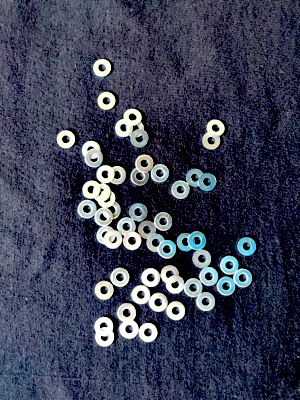circle: (238, 234, 259, 257), (138, 322, 159, 344), (171, 179, 192, 200), (219, 255, 240, 276), (233, 268, 254, 289), (160, 265, 181, 286), (186, 167, 206, 189), (193, 248, 213, 270), (57, 129, 78, 149), (166, 301, 186, 322), (129, 203, 149, 224), (131, 284, 151, 305), (116, 303, 137, 323), (94, 317, 114, 338), (111, 268, 131, 289), (81, 180, 102, 200), (130, 129, 152, 148), (82, 140, 102, 160), (188, 231, 208, 251), (217, 276, 237, 296), (200, 267, 220, 287), (196, 292, 216, 312), (141, 268, 161, 288), (120, 319, 140, 339), (94, 281, 114, 301), (202, 132, 223, 151), (134, 155, 155, 174), (96, 92, 117, 111), (184, 278, 203, 299), (97, 225, 116, 246), (151, 164, 170, 184), (126, 119, 146, 138), (93, 58, 113, 77), (85, 149, 105, 168), (108, 166, 128, 185), (97, 164, 116, 184), (177, 232, 196, 252), (138, 221, 158, 240), (149, 292, 168, 312), (94, 208, 114, 227), (200, 172, 217, 194), (208, 118, 227, 137), (131, 167, 150, 186), (159, 240, 178, 259), (155, 213, 174, 232), (147, 233, 166, 252), (118, 218, 137, 237), (123, 232, 142, 251), (95, 329, 114, 348), (98, 190, 117, 209), (166, 276, 186, 294), (104, 231, 123, 249), (104, 200, 122, 219), (78, 201, 97, 219), (93, 184, 111, 203), (123, 109, 143, 126), (116, 119, 133, 139)
